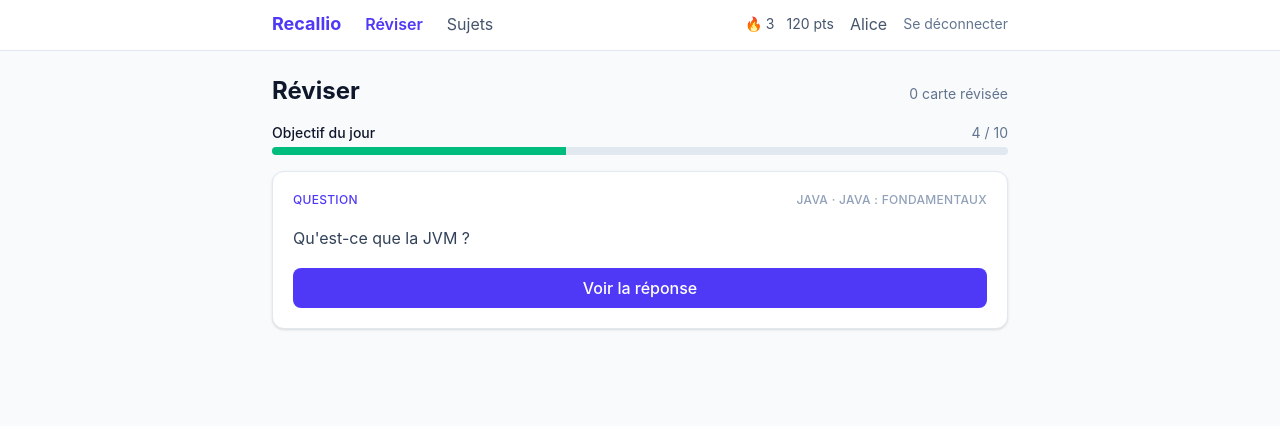
Test: ReviewPage › shows the progress towards the daily goal, refreshed after each review
The image size is (1280, 426).
expect the text "4 / 10" is shown: met, box x1=972 y1=123 x2=1008 y2=143
Click the button "Voir la réponse": coordinates (640, 288) x1=293 y1=268 x2=987 y2=308
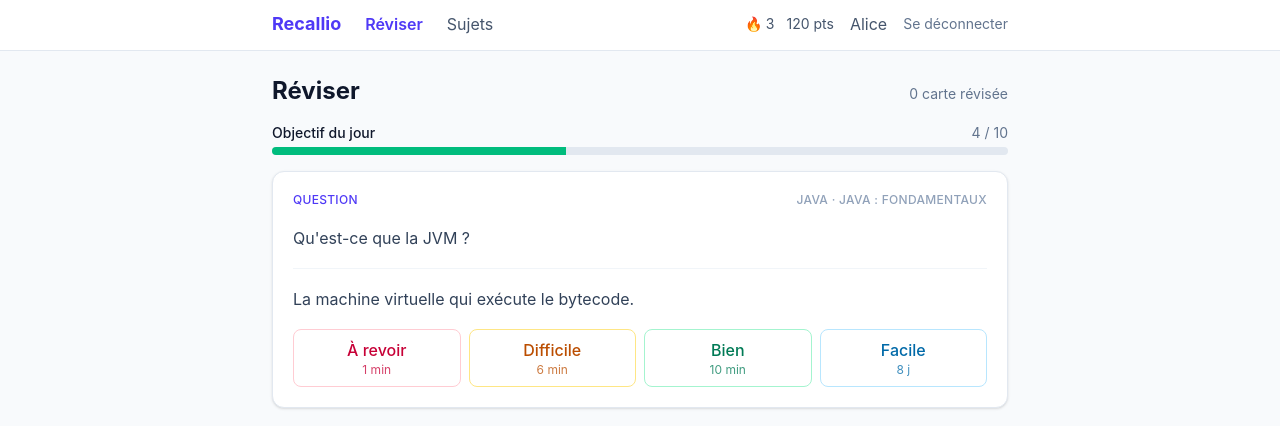
Click the button "Bien 10 min": coordinates (728, 358) x1=644 y1=329 x2=812 y2=387
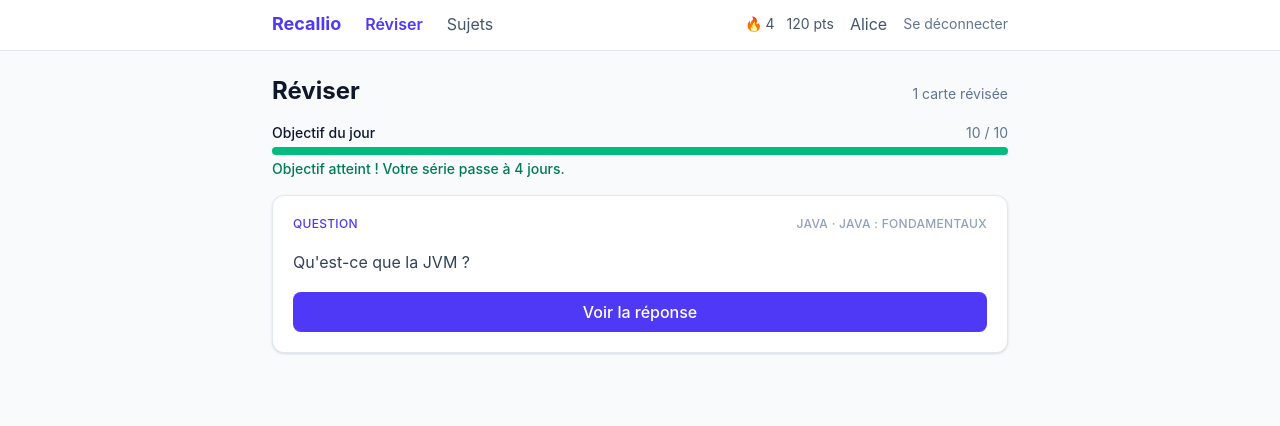
expect the text "Objectif atteint ! Votre série passe à 4 jours." is shown: met, box x1=272 y1=160 x2=565 y2=177
